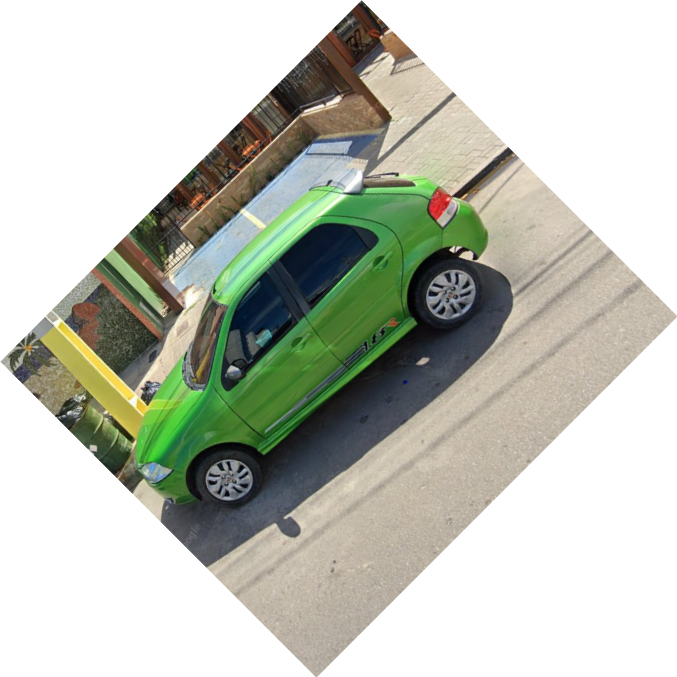car: (132, 170, 490, 510)
